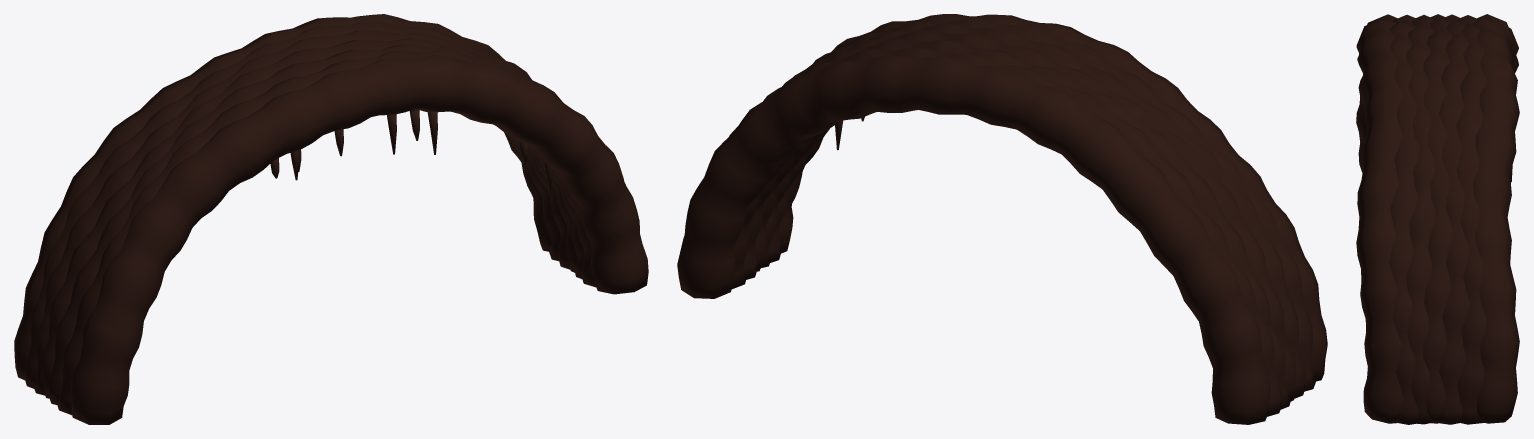
File: cacao-arch.glb
The picture shows the model from 3 angles, left to right: view 1: azimuth 30°, elevation 25°; view 2: azimuth 150°, elevation 25°; view 3: azimuth 270°, elevation 25°; orthographic projection. The views are drawn at different scales.
Parts seen in each view (by area): view 1: Molten chocolate arch.006, Molten chocolate arch, Molten chocolate arch.005, Molten chocolate arch.001, Molten chocolate arch.002, Molten chocolate arch.004, Molten chocolate arch.003; view 2: Molten chocolate arch, Molten chocolate arch.006, Molten chocolate arch.001, Molten chocolate arch.002, Molten chocolate arch.003, Molten chocolate arch.004, Molten chocolate arch.005; view 3: Molten chocolate arch.006, Molten chocolate arch, Molten chocolate arch.002, Molten chocolate arch.001, Molten chocolate arch.003, Molten chocolate arch.004, Molten chocolate arch.005.
Part boxes in pixels (<box>): Molten chocolate arch.006: <box>70,55,648,424</box>; Molten chocolate arch: <box>14,14,551,380</box>; Molten chocolate arch.005: <box>57,50,595,415</box>; Molten chocolate arch.001: <box>24,21,560,388</box>; Molten chocolate arch.002: <box>34,30,570,395</box>; Molten chocolate arch.004: <box>48,44,584,405</box>; Molten chocolate arch.003: <box>41,38,577,398</box>; Molten chocolate arch: <box>677,55,1270,424</box>; Molten chocolate arch.006: <box>778,14,1327,381</box>; Molten chocolate arch.001: <box>729,47,1281,416</box>; Molten chocolate arch.002: <box>743,39,1290,409</box>; Molten chocolate arch.003: <box>754,30,1295,401</box>; Molten chocolate arch.004: <box>760,23,1305,398</box>; Molten chocolate arch.005: <box>768,18,1315,391</box>; Molten chocolate arch.006: <box>1356,14,1403,423</box>; Molten chocolate arch: <box>1473,14,1519,423</box>; Molten chocolate arch.002: <box>1439,14,1470,424</box>; Molten chocolate arch.001: <box>1456,15,1486,424</box>; Molten chocolate arch.003: <box>1423,14,1453,423</box>; Molten chocolate arch.004: <box>1405,15,1435,424</box>; Molten chocolate arch.005: <box>1389,14,1419,424</box>.
Bounding box in the file's own units: 16.5 × 7.82 × 4.51.
